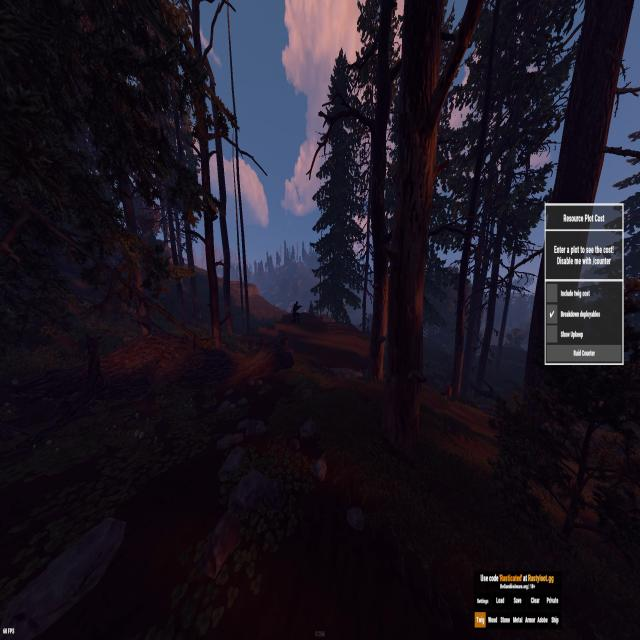Player: (291, 299, 301, 326)
